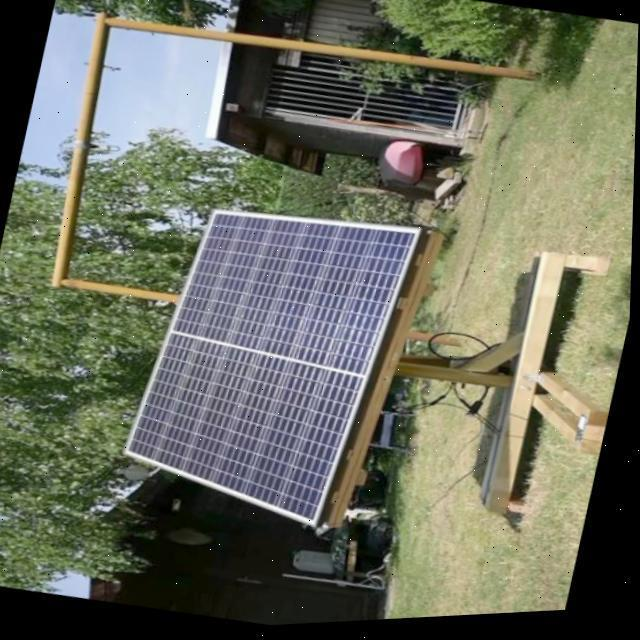Normal Solar Panel: (118, 185, 428, 546)
